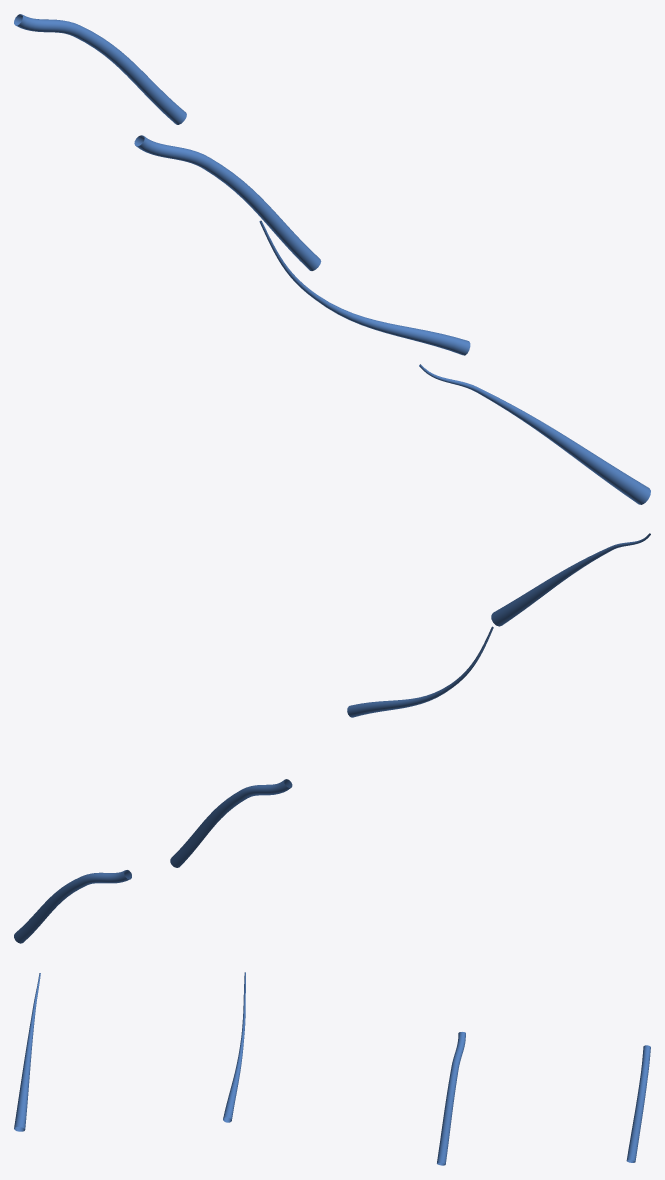
3 views of the same model, one above another, from view 1: azimuth 30°, elevation 25°; view 2: azimuth 150°, elevation 25°; view 3: azimuth 270°, elevation 25° (orthographic). The views are drawn at different scales.
Parts seen in each view (by area): view 1: 右侧穿静脉; view 2: 右侧穿静脉; view 3: 右侧穿静脉.
Part boxes in pixels (x1,y1,x2,y2): 右侧穿静脉: (14,14,650,504); 右侧穿静脉: (14,533,650,943); 右侧穿静脉: (14,972,650,1165).
Bounding box in the file's own units: 0.0723 × 0.0566 × 0.2486.
